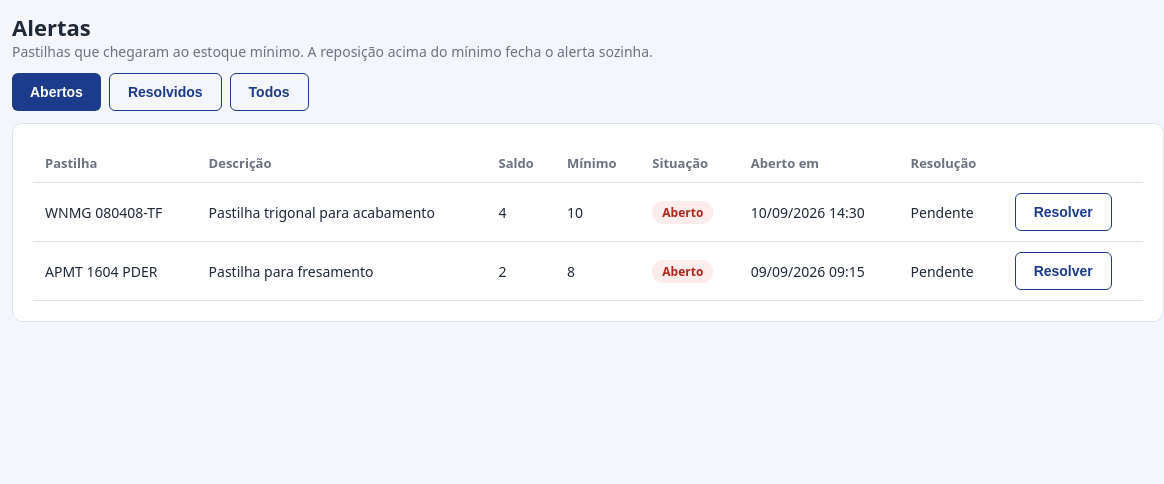
Test: página de alertas › mostra a mensagem da API quando o alerta já foi resolvido por outra pessoa
Expected: the table named "Alertas de reposição" is shown, [33,144,1143,301]
Step 1. Click the button with aria-label "Resolver o alerta de" → (1063, 212), box [1015,193,1112,231]
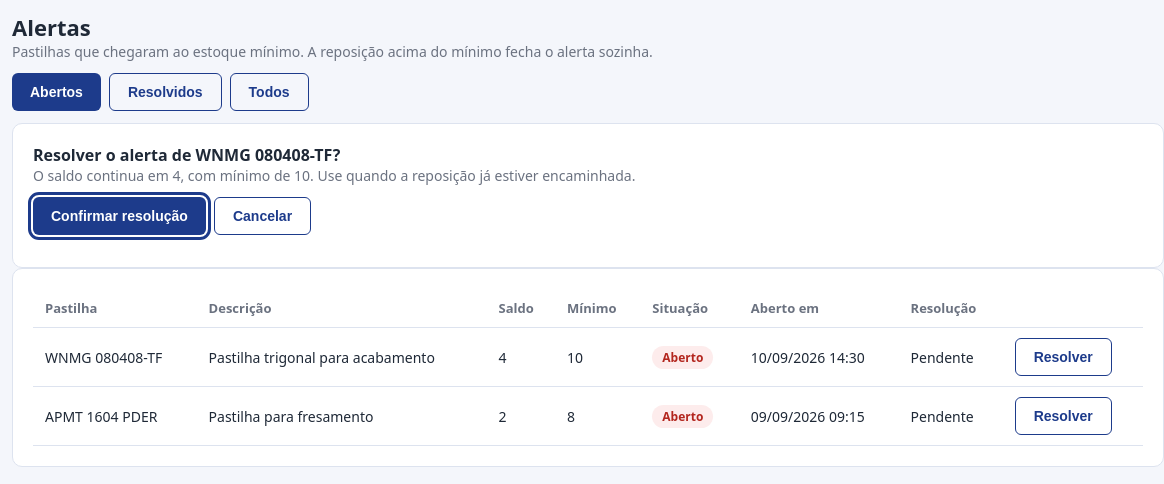
Step 2. Click the button "Confirmar resolução" → (119, 216), box [33,197,206,235]
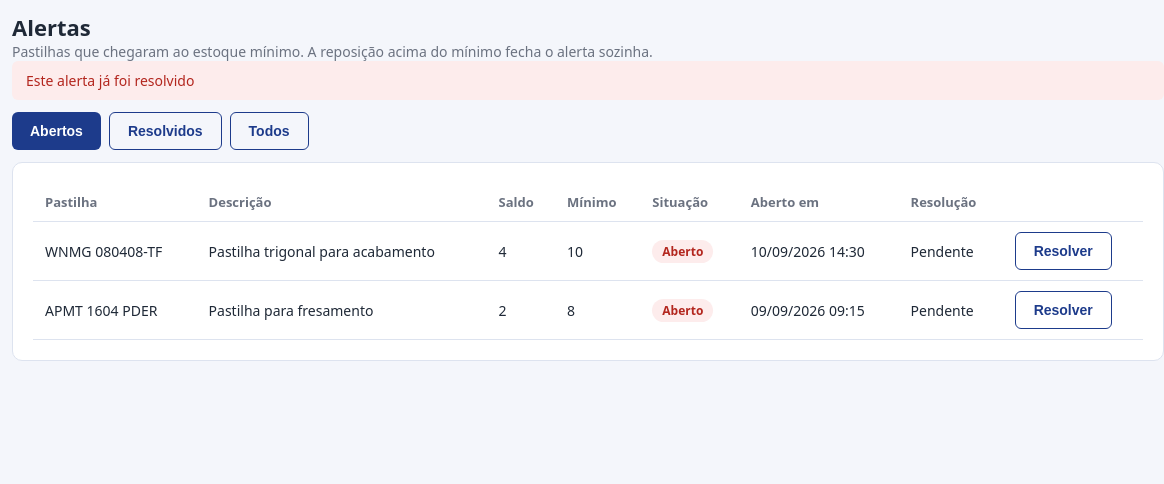
Expected: the message reads "Este alerta já foi resolvido", [26,71,194,90]
